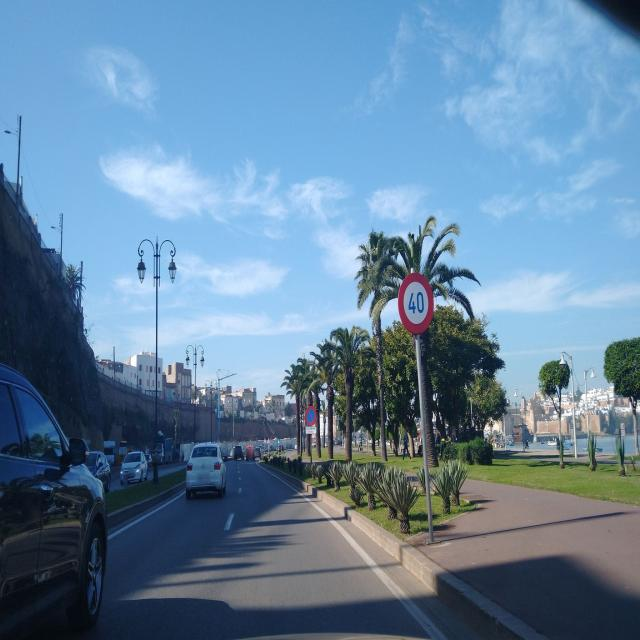forb_stopping: (305, 405, 317, 427)
